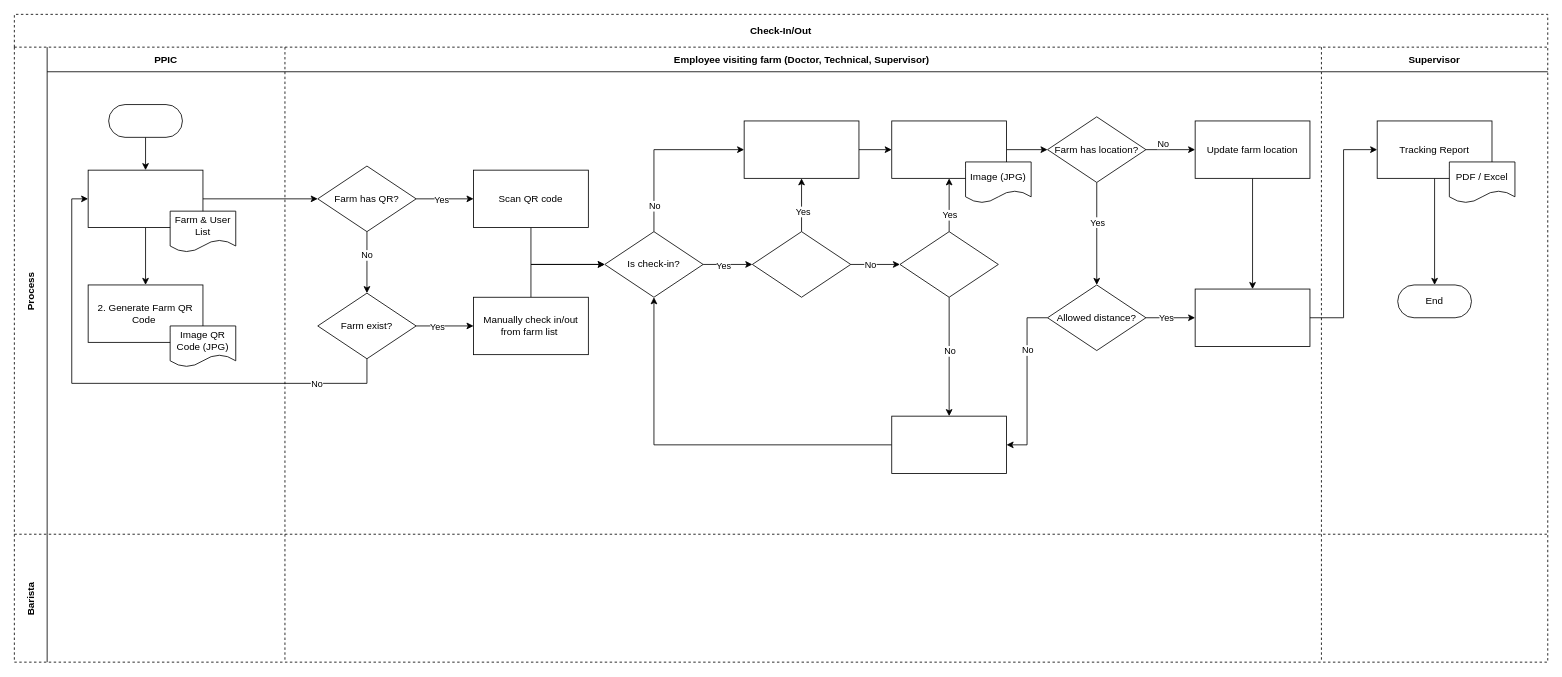
Some shapes in this 1562 by 677 pixel diagram are drawn without their labels. The box of each missing label's shape, as (x1, y1, x2, y2) in pixels:
1. Farms & Users collection: (87, 169, 203, 228)
Check In: (743, 120, 859, 178)
Check Out?: (899, 231, 998, 297)
Delete last check in: (891, 415, 1007, 474)
Is check-out?: (752, 231, 851, 297)
Save Information: (1194, 288, 1310, 346)
Start: (108, 104, 182, 137)
Take Picture: (891, 120, 1007, 178)
